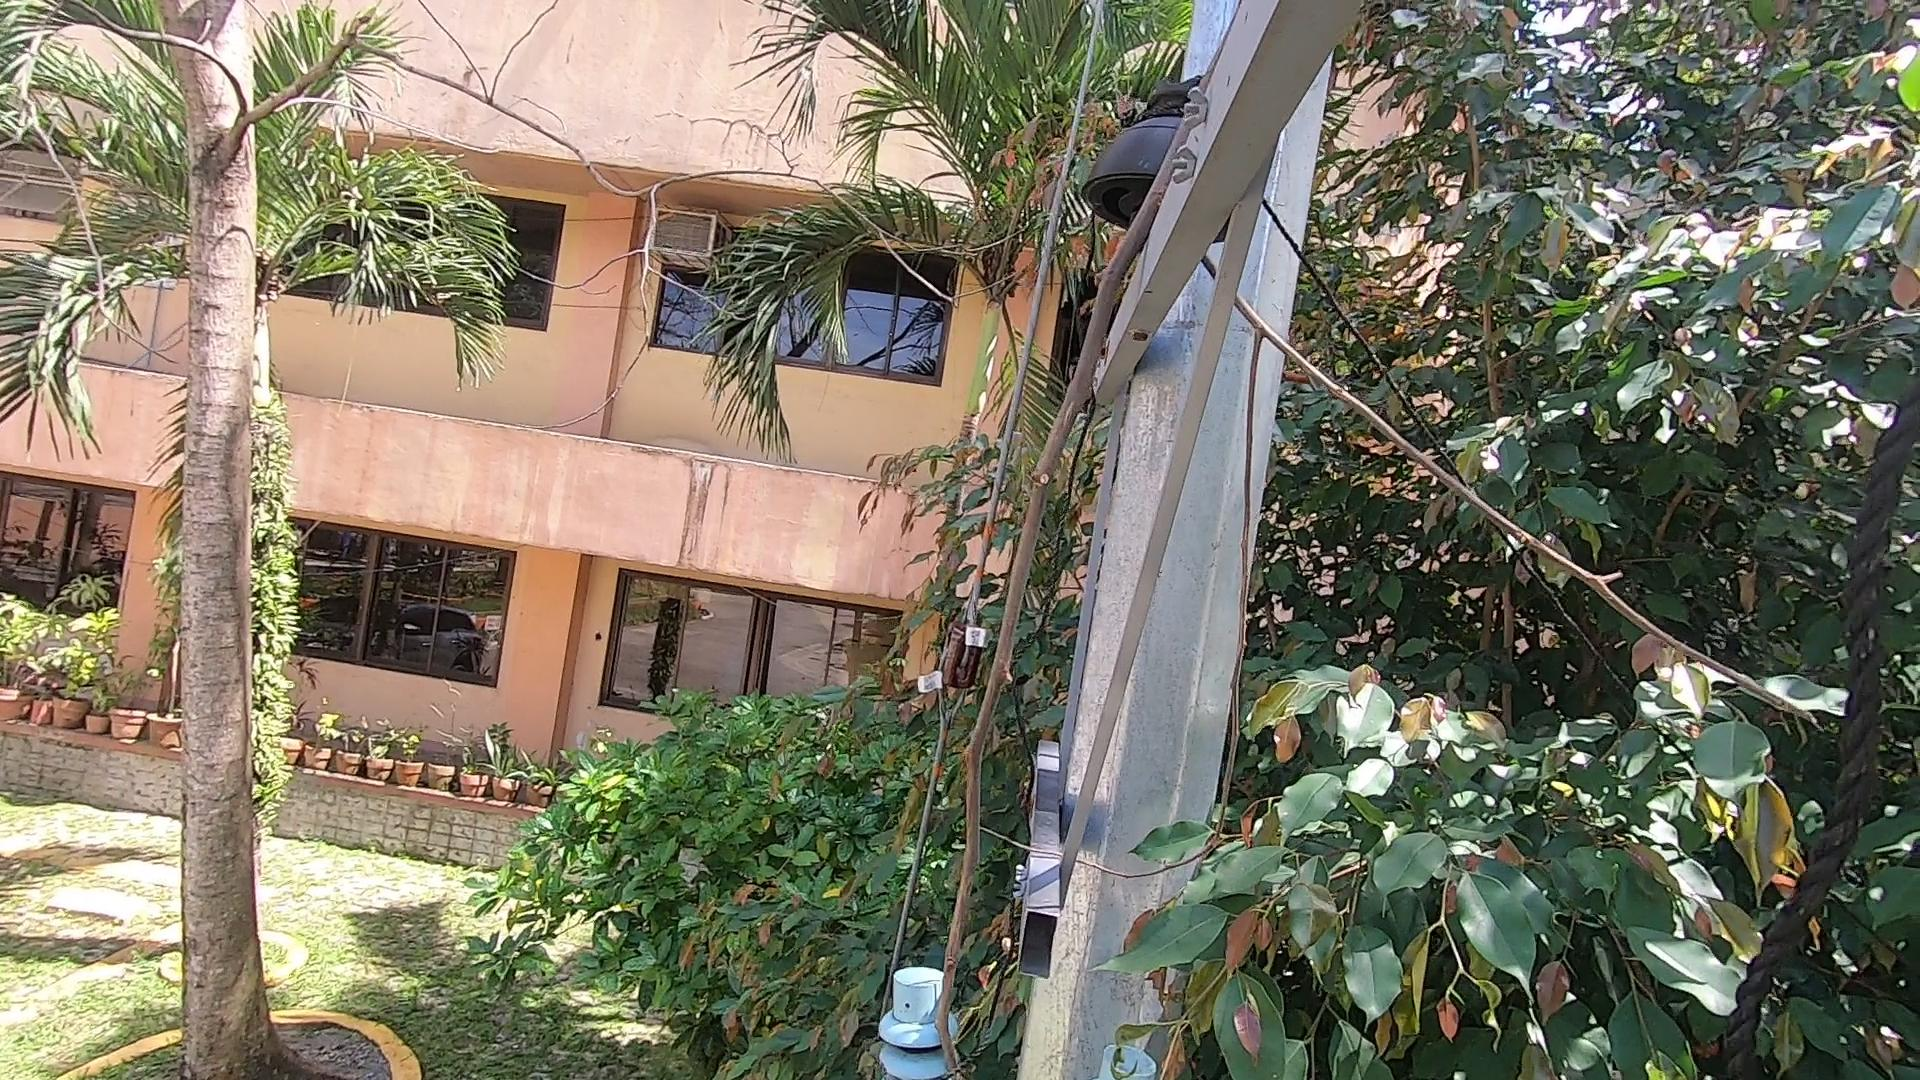tree branch: (869, 30, 1320, 1080), (1065, 829, 1402, 1080)
